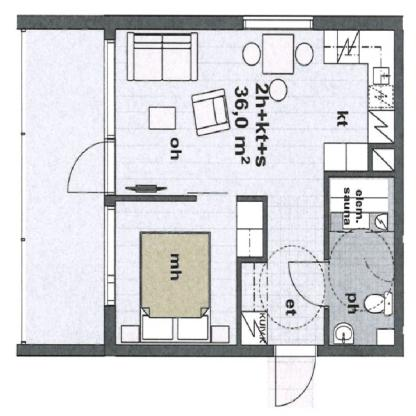door: (272, 339, 318, 405), (60, 142, 117, 194), (285, 260, 334, 308)
window: (104, 207, 116, 307), (106, 42, 117, 136), (238, 16, 317, 29)
zone: (114, 26, 397, 352), (20, 28, 106, 344), (116, 202, 235, 343), (328, 176, 395, 347)
